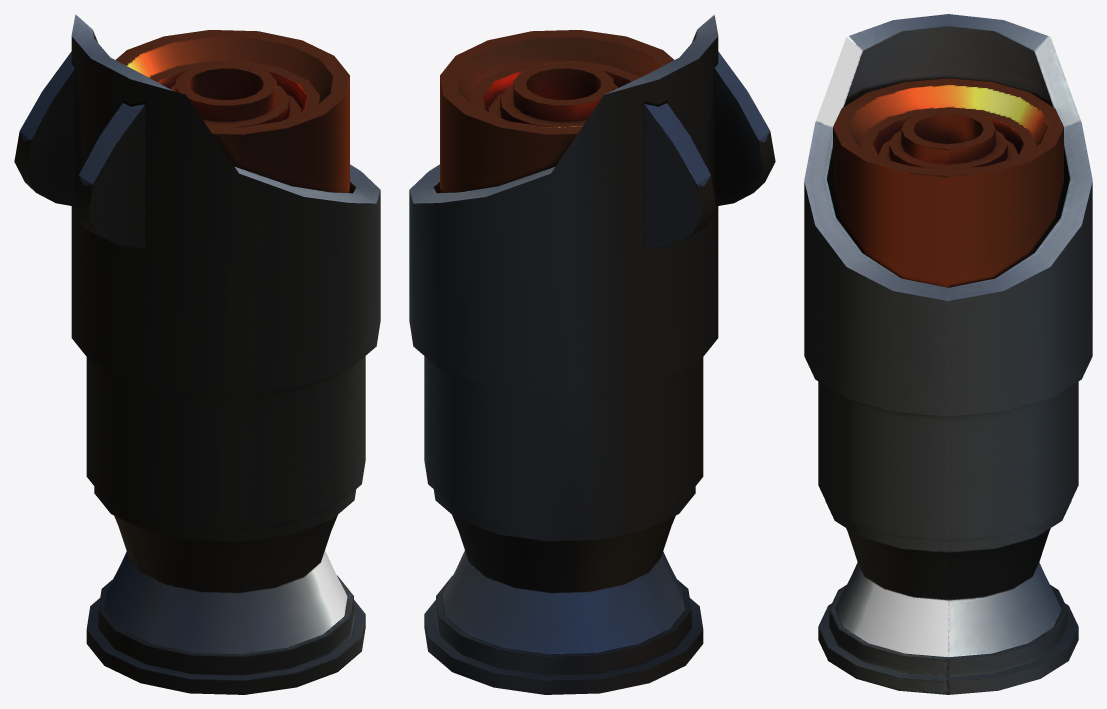
Rendered from stel_emitter.obj.
3 renders of one model, left to right at view 1: azimuth 30°, elevation 25°; view 2: azimuth 150°, elevation 25°; view 3: azimuth 270°, elevation 25°, orthographic. The views are drawn at different scales.
Visible parts, largest first — view 1: Cylinder.001; view 2: Cylinder.001; view 3: Cylinder.001.
Boxes of the visible parts, box(x1,y1,x2,y2) form: Cylinder.001: box(14, 14, 380, 694); Cylinder.001: box(409, 14, 775, 694); Cylinder.001: box(804, 14, 1092, 694).
Bounding box in the file's own units: 0.1029 × 0.193 × 0.0893.
